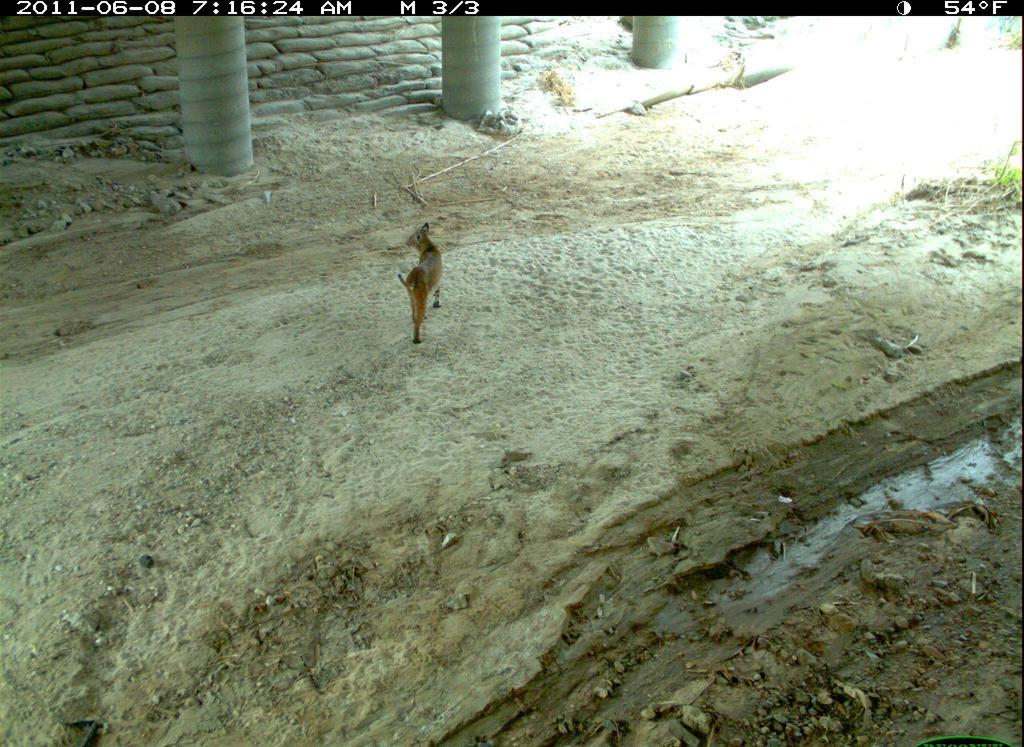bobcat: (388, 209, 454, 353)
